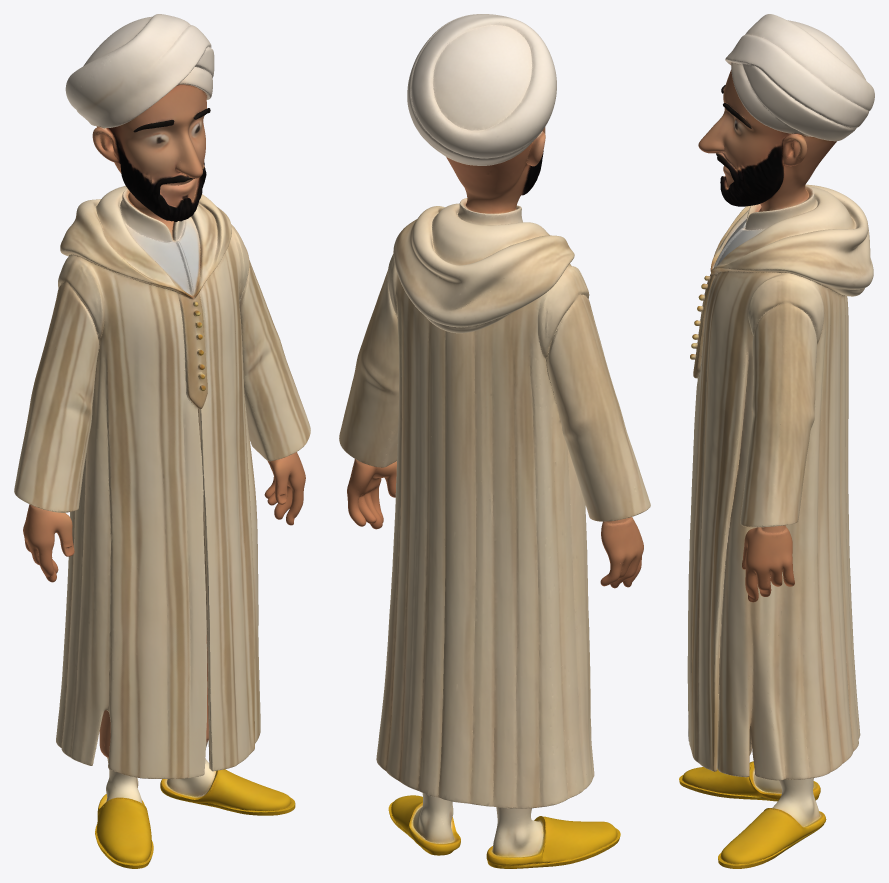
The model's file is father__base_basic_pbr.glb.
The picture shows the model from 3 angles, left to right: view 1: azimuth 30°, elevation 25°; view 2: azimuth 150°, elevation 25°; view 3: azimuth 270°, elevation 25°; orthographic projection. The views are drawn at different scales.
Visible parts, largest first — view 1: model; view 2: model; view 3: model.
Boxes of the visible parts, x1,y1,x2,y2 form: model: [14, 14, 310, 868]; model: [339, 14, 650, 868]; model: [679, 14, 874, 868].
Bounding box in the file's own units: 0.7258 × 1.9 × 0.4249.
Materials: 1 (1 with a texture image).
